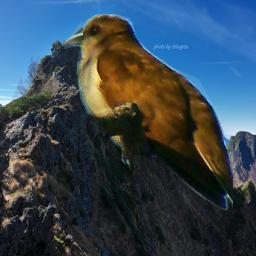Cuckoo: (64, 14, 233, 214)
